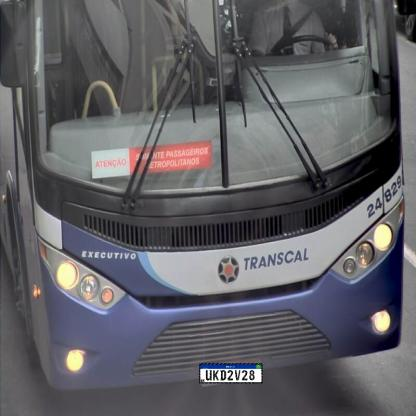PlacaM: (199, 364, 263, 384)
